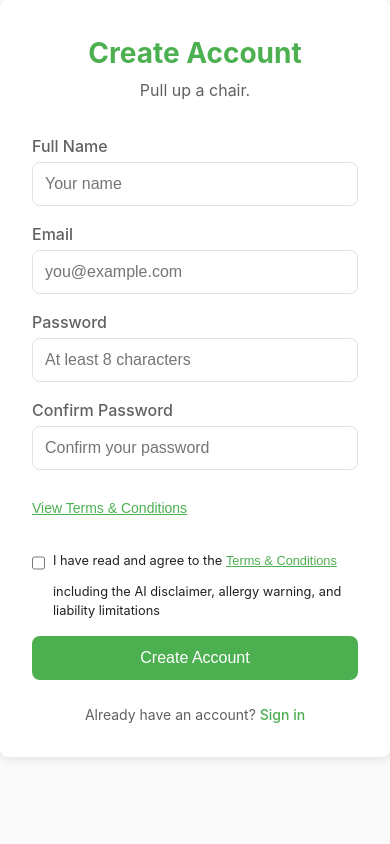
Scenario: RegisterView › shows password too short validation error
The width and height of the screenshot is (390, 844).
Type "Test User" into the field with id "fullName" at [195, 184], box [32,162,358,206]
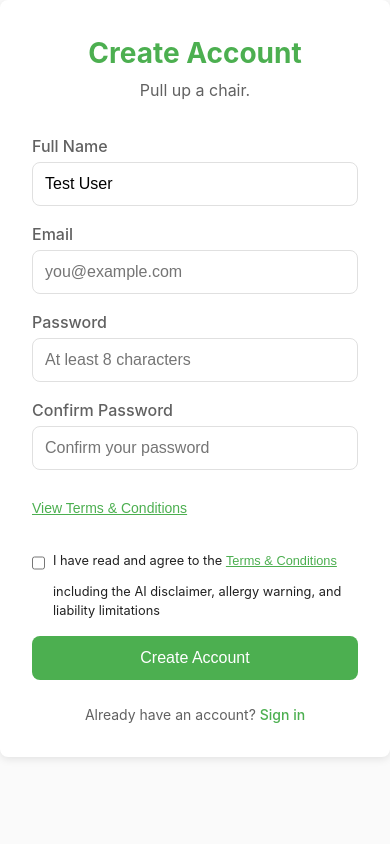
Type "test@example.com" into the field with id "email" at [195, 272], box [32,250,358,294]
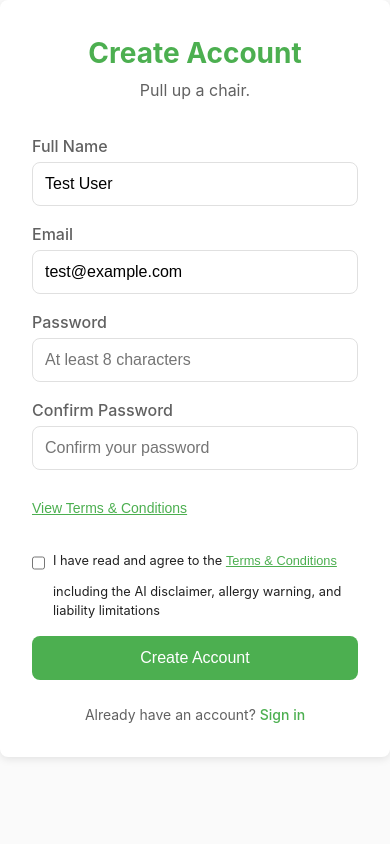
Type "short" into the password field labelled "Password" at [195, 360], box [32,338,358,382]
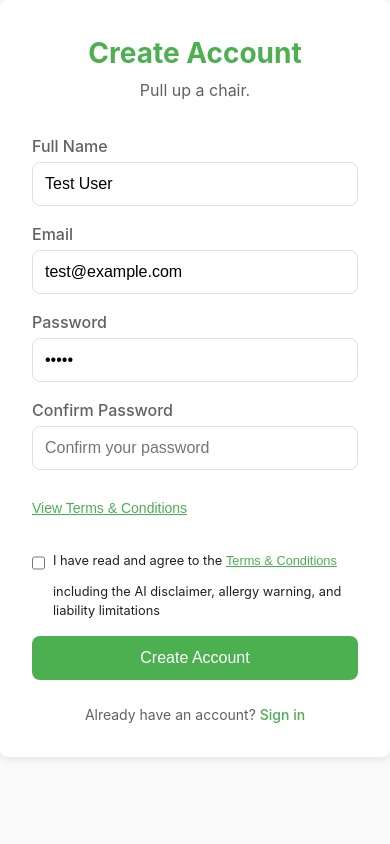
Type "short" into the password field with id "confirmPassword" at [195, 448], box [32,426,358,470]
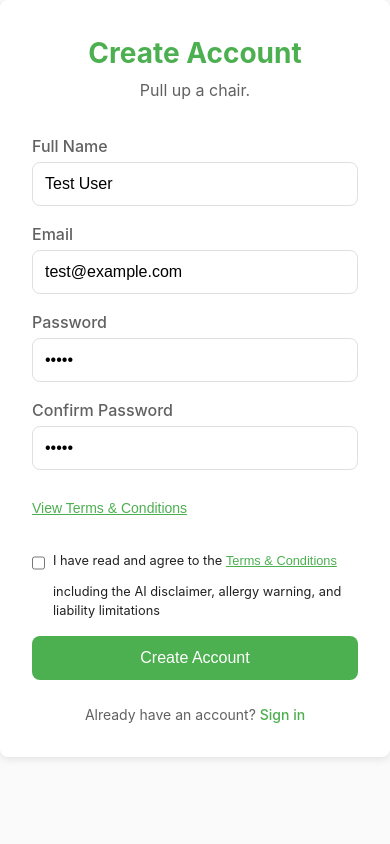
Submit the form, box [32,134,358,680]
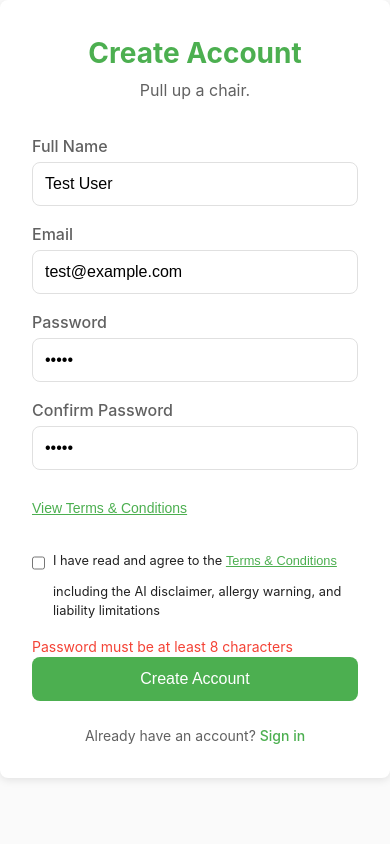
Result: the message with class "error-text" reads "Password must be at least 8 characters" at [32,638,293,655]
